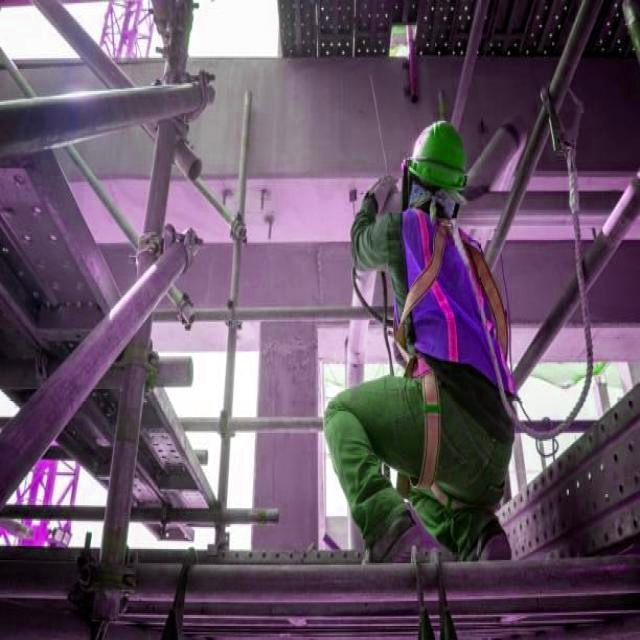safety belt: (383, 203, 523, 514)
